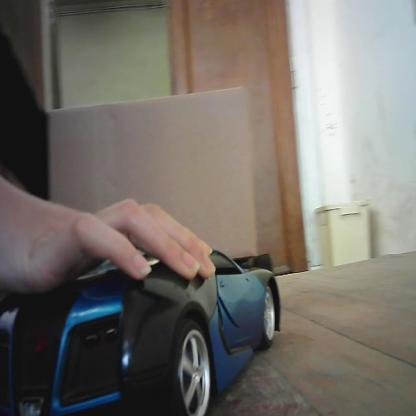LeadTruck: (47, 89, 274, 339)
